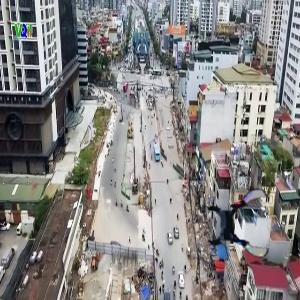drone: (204, 188, 276, 260)
